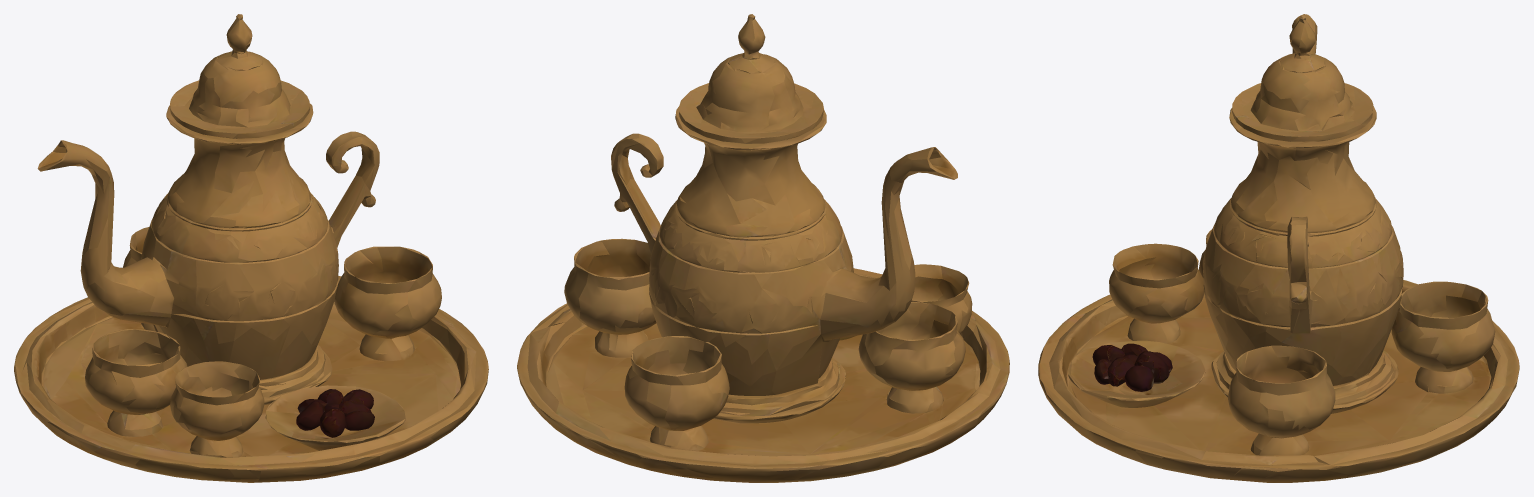
File: dallah.glb
3 views of the same model, side by side, from view 1: azimuth 30°, elevation 25°; view 2: azimuth 150°, elevation 25°; view 3: azimuth 270°, elevation 25° (orthographic). The views are drawn at different scales.
Size of the model in its own units: 1.9 by 1.63 by 1.9.
Materials: 1 (1 with a texture image).
